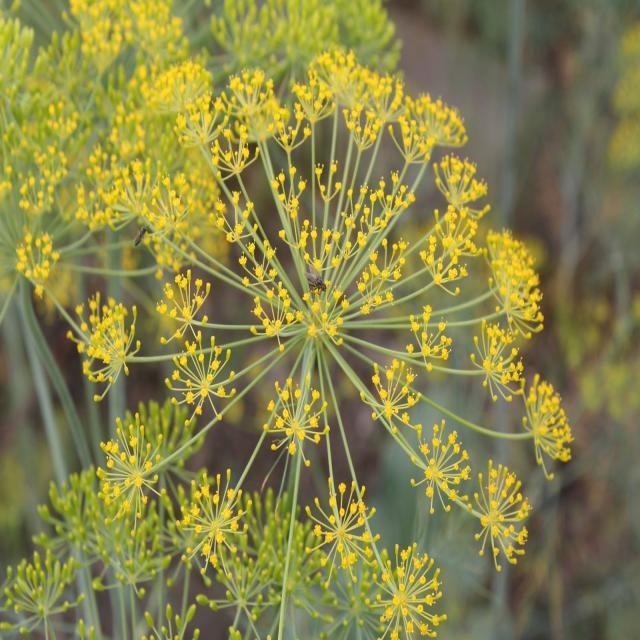Dill: (82, 60, 582, 639)
